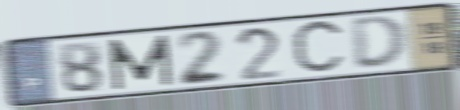2: (173, 28, 229, 88), (233, 24, 284, 82)
8: (56, 40, 106, 95)
C: (288, 16, 348, 79)
D: (348, 13, 410, 71)
M: (105, 33, 175, 92)
